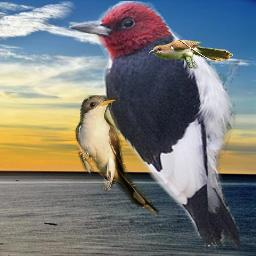Cuckoo: (75, 95, 161, 219), (149, 40, 233, 69)
Woodpecker: (69, 1, 240, 249)
